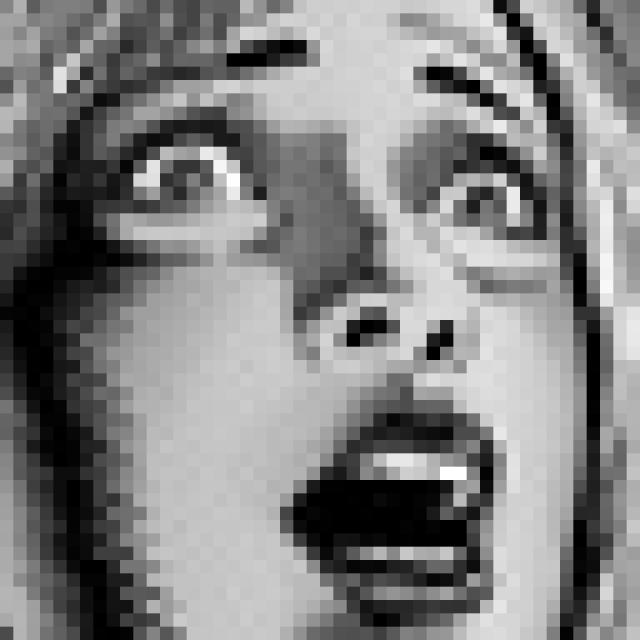fear: (97, 35, 562, 625)
